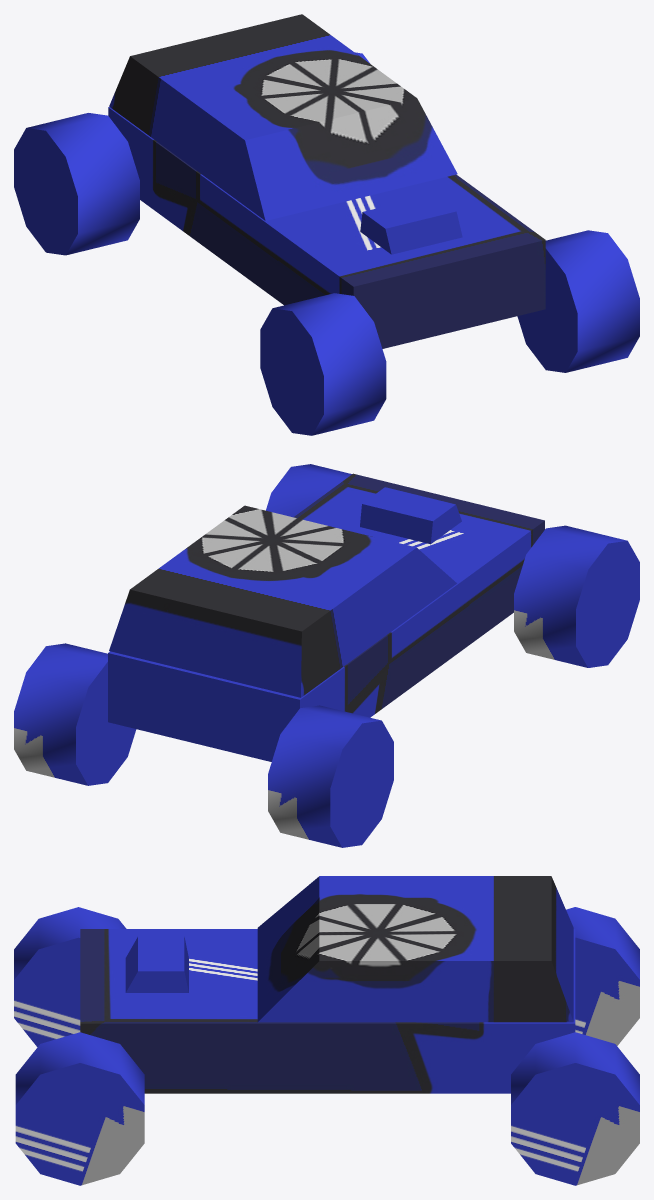
The model's file is HotRod.fbx.
3 renders of one model, top to bottom at view 1: azimuth 30°, elevation 25°; view 2: azimuth 150°, elevation 25°; view 3: azimuth 270°, elevation 25°, orthographic.
Visible parts, largest first — view 1: HotRodShell, FRWheel, BRWheel, FLWheel; view 2: HotRodShell, BRWheel, FRWheel, BLWheel, FLWheel; view 3: HotRodShell, FLWheel, BLWheel, FRWheel, BRWheel.
Boxes of the visible parts, x1,y1,x2,y2 form: HotRodShell: (108,14,545,348); FRWheel: (260,293,386,435); BRWheel: (14,113,139,255); FLWheel: (517,230,639,372); HotRodShell: (108,473,544,761); BRWheel: (268,705,393,847); FRWheel: (514,525,639,667); BLWheel: (14,643,136,785); FLWheel: (266,464,351,517); HotRodShell: (80,876,575,1093); FLWheel: (15,1032,144,1185); BLWheel: (511,1032,639,1185); FRWheel: (14,907,126,1046); BRWheel: (566,907,639,1045).
Size of the model in its own units: 219 by 124 by 371.
